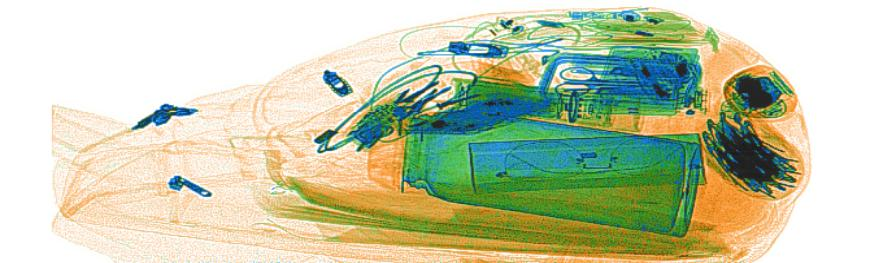battery: (462, 81, 563, 118)
scissors: (555, 65, 670, 98)
